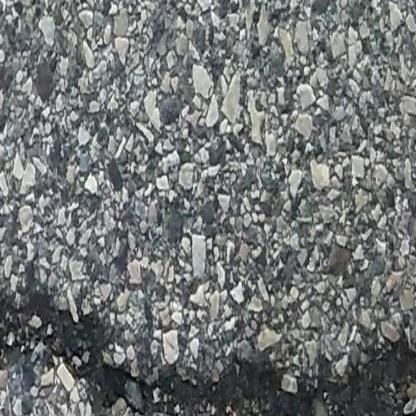Cracks: (0, 293, 416, 416)
